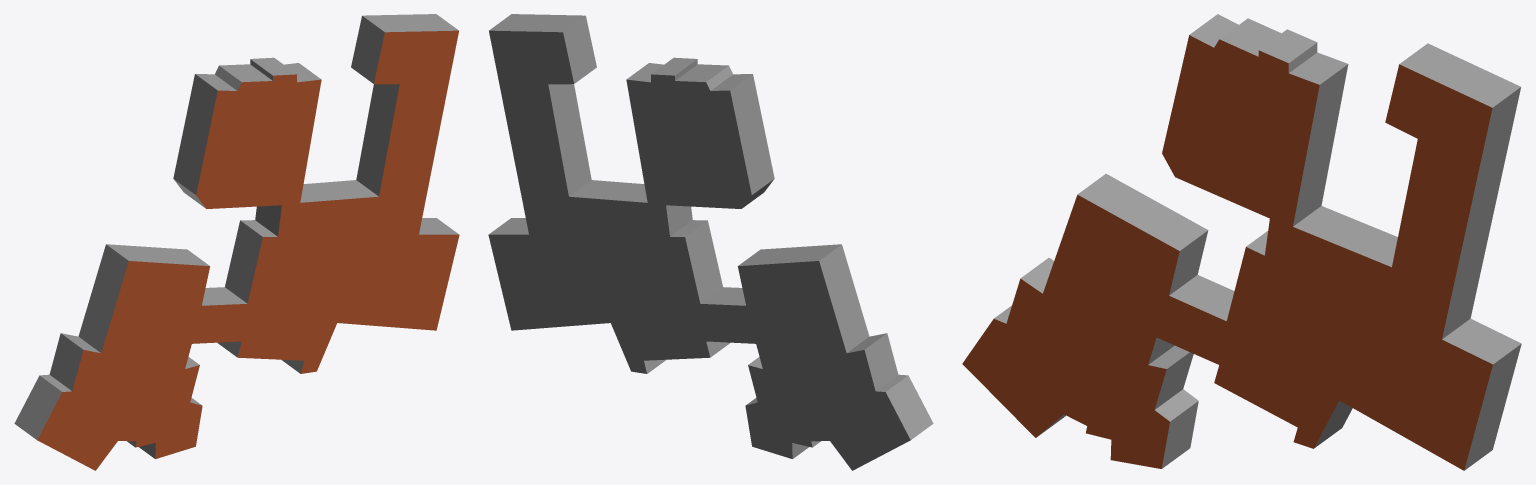
The model's file is construction_3158_assumed_A_Casa_h6m.obj.
The picture shows the model from 3 angles, left to right: view 1: azimuth 30°, elevation 25°; view 2: azimuth 150°, elevation 25°; view 3: azimuth 330°, elevation 25°; orthographic projection. The views are drawn at different scales.
Parts seen in each view (by area): view 1: construction_3158_assumed_A_Casa; view 2: construction_3158_assumed_A_Casa; view 3: construction_3158_assumed_A_Casa.
Part boxes in pixels (x1,y1,x2,y2): construction_3158_assumed_A_Casa: [14, 14, 459, 470]; construction_3158_assumed_A_Casa: [488, 14, 933, 470]; construction_3158_assumed_A_Casa: [962, 14, 1521, 470].
Bounding box in the file's own units: 64.15 × 53.84 × 6.
